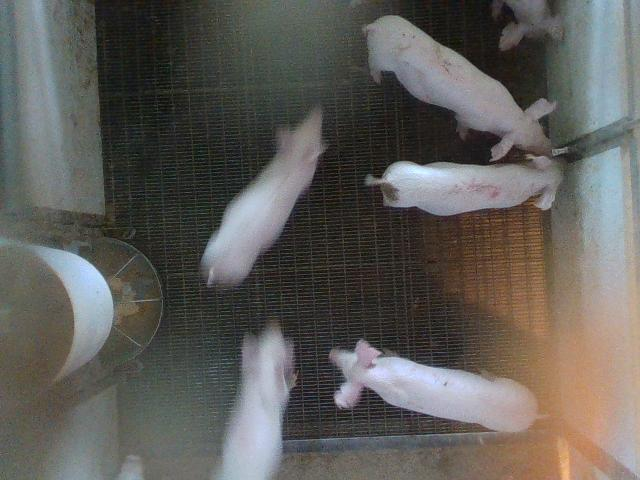pig-5: (365, 155, 562, 216)
